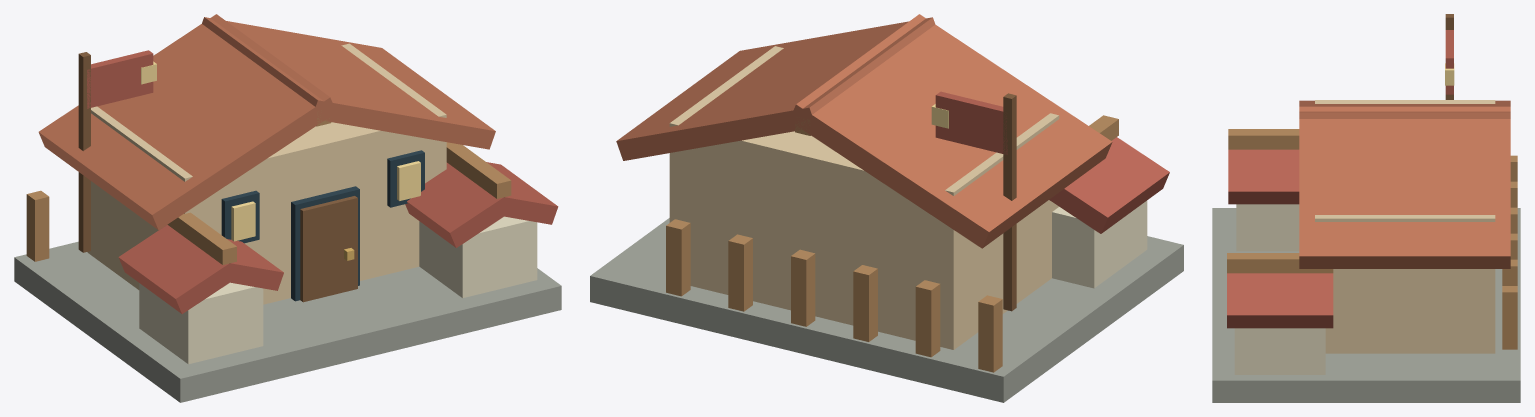
The model's file is barracks.glb.
The picture shows the model from 3 angles, left to right: view 1: azimuth 30°, elevation 25°; view 2: azimuth 150°, elevation 25°; view 3: azimuth 270°, elevation 25°; orthographic projection. The views are drawn at different scales.
Size of the model in its own units: 2.68 by 1.64 by 2.
